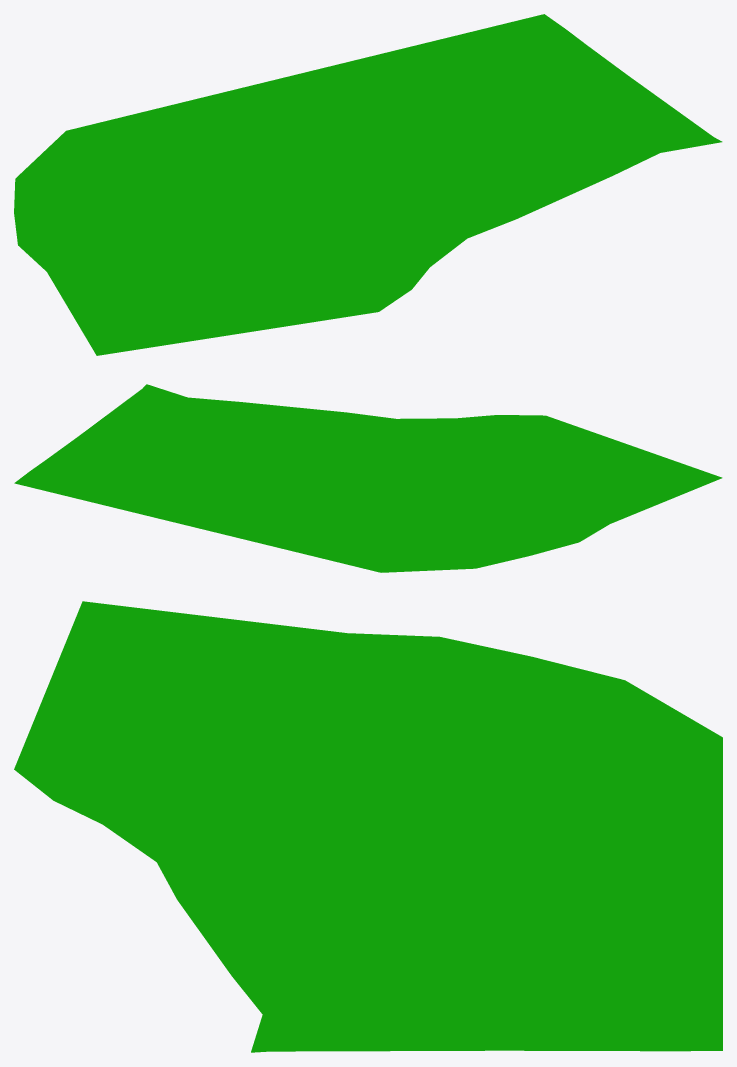
Rendered from forestGround.obj.
3 renders of one model, top to bottom at view 1: azimuth 30°, elevation 25°; view 2: azimuth 150°, elevation 25°; view 3: azimuth 270°, elevation 25°, orthographic. The views are drawn at different scales.
Visible parts, largest first — view 1: 平面; view 2: 平面; view 3: 平面.
Part boxes in pixels (x1,y1,x2,y2): 平面: [14, 14, 722, 355]; 平面: [14, 384, 722, 572]; 平面: [14, 601, 722, 1052].
Size of the model in its own units: 643 by 0 by 427.
1 material, 1 textured.
